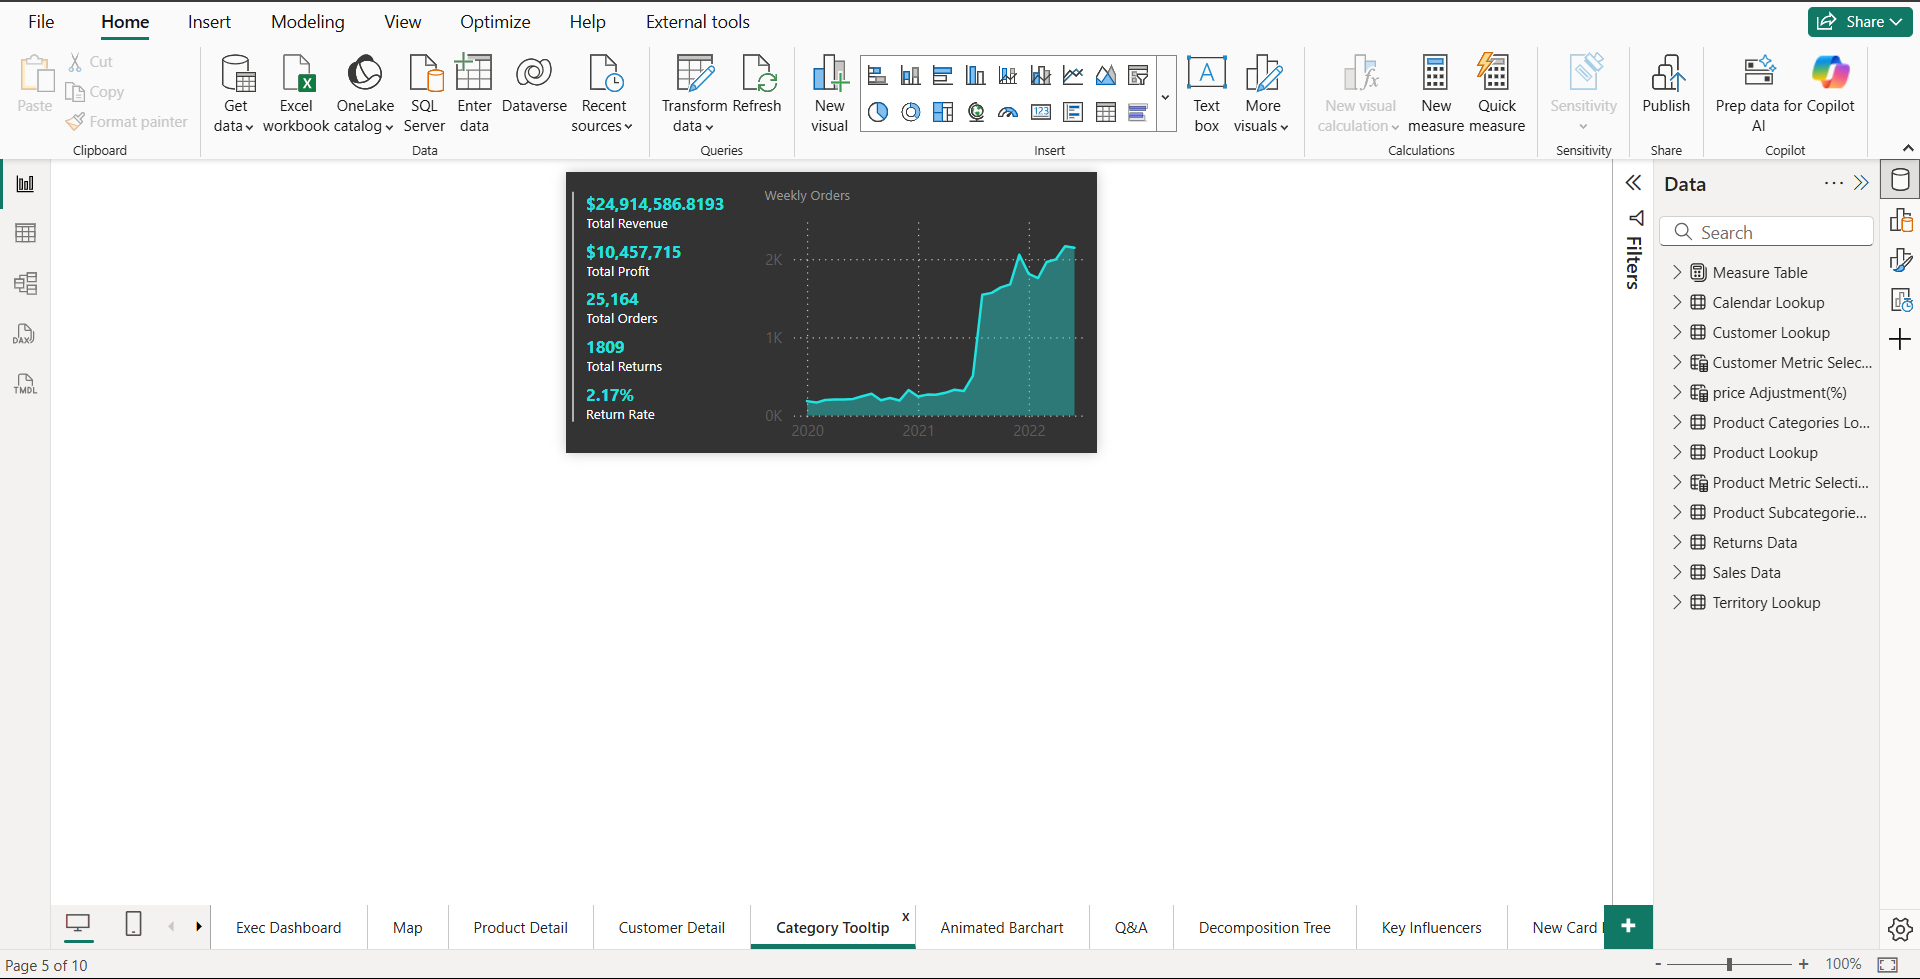

The page's visual inventory and layout, read from the dashboard file:
{"tool":"powerbi","page":{"name":"Category Tooltip","canvas":[425,225],"ordinal":4},"visuals":[{"type":"multiRowCard","fields":{"Values":["Measure Table.Total Revenue","Measure Table.Total Profit","Measure Table.Total Orders","Measure Table.Total Returns","Measure Table.Return Rate"]},"box":[0,11,154,214],"z":0},{"type":"areaChart","title":"Weekly Orders ","fields":{"Y":["Measure Table.Total Orders"],"Category":["Calendar Lookup.Date Hierarchy.Start of Year","Calendar Lookup.Date Hierarchy.Start of Month","Calendar Lookup.Date Hierarchy.Start of Week"]},"box":[154,11,271,214],"z":1000}]}

Visuals, with their boxes on the page's 425x225 design canvas (x1, y1, x2, y2). These are canvas units, not pixel positions in the 1920x979 screenshot, which may show the page scaled, cropped or inside an application window:
multiRowCard - Measure Table.Total Revenue x Measure Table.Total Profit: select_region(0, 11, 154, 225)
"Weekly Orders " areaChart: select_region(154, 11, 425, 225)
